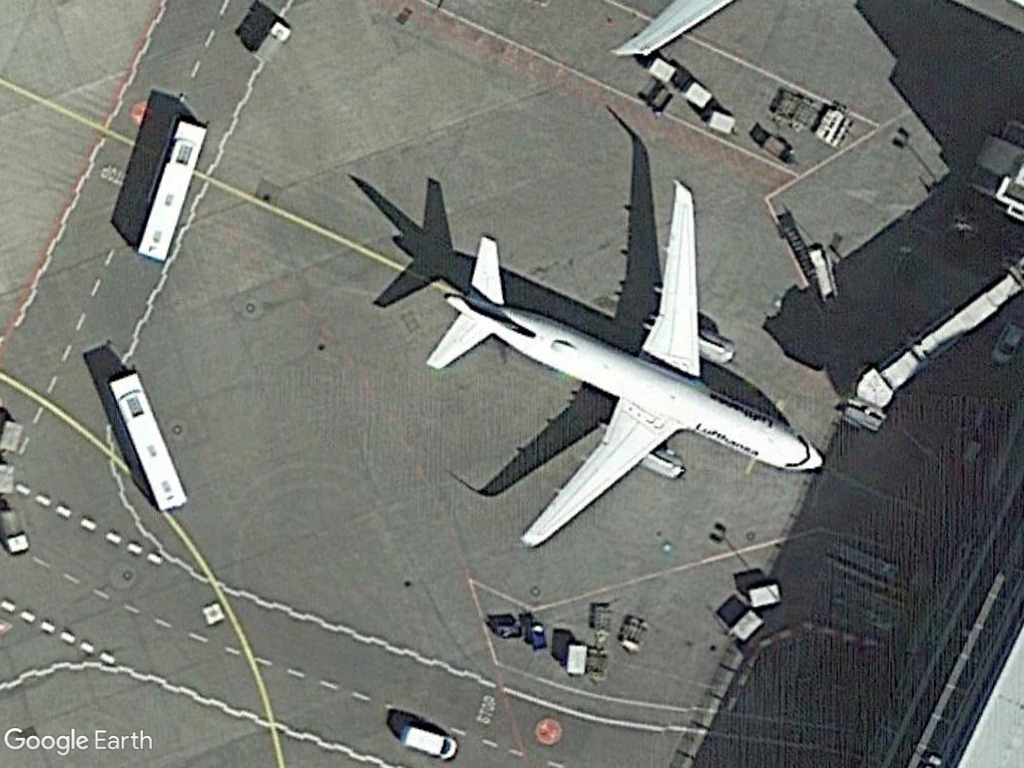airliner: (428, 173, 825, 550)
bus: (104, 368, 192, 514), (131, 115, 208, 265)
van: (398, 722, 459, 760)
